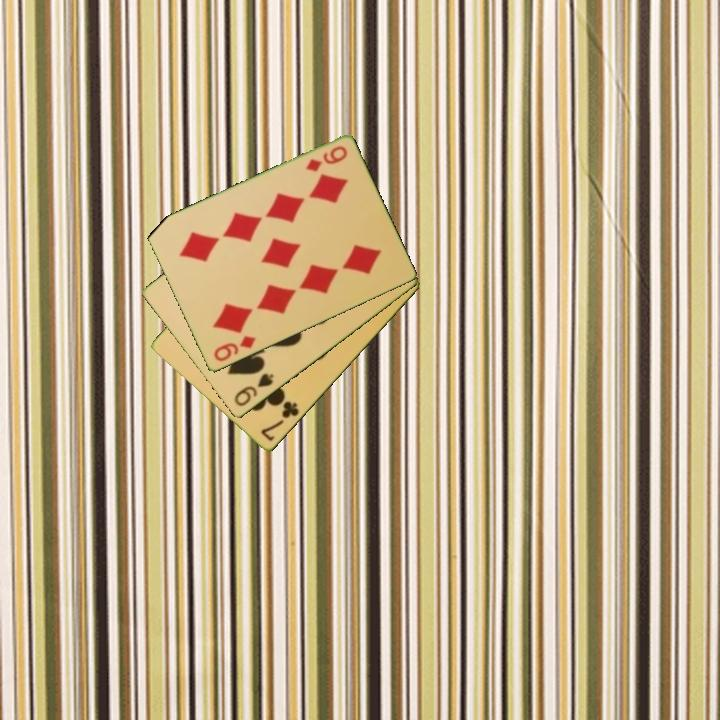7c: (257, 398, 302, 445)
9d: (210, 332, 259, 365), (302, 143, 350, 175)
9s: (231, 370, 277, 410)
